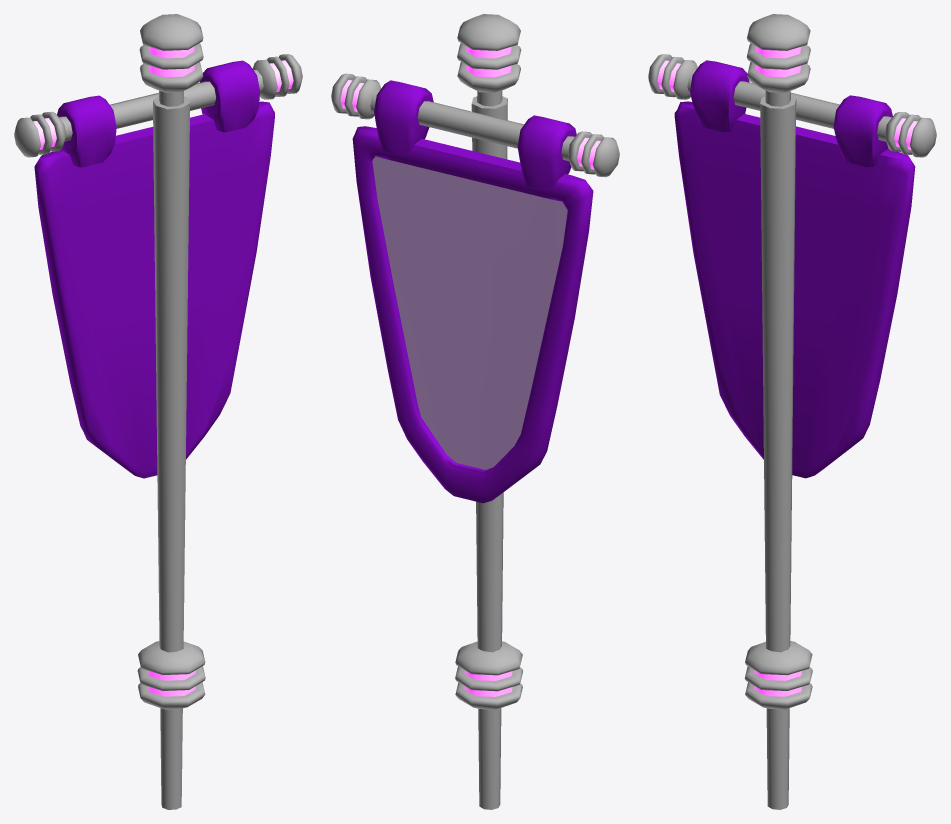
File: PH_Flag_Animations.fbx
The picture shows the model from 3 angles, left to right: view 1: azimuth 30°, elevation 25°; view 2: azimuth 150°, elevation 25°; view 3: azimuth 330°, elevation 25°; orthographic projection.
Visible parts, largest first — view 1: mesh_Flag_Team_A; view 2: mesh_Flag_Team_A; view 3: mesh_Flag_Team_A.
Part boxes in pixels (x1,y1,x2,y2): mesh_Flag_Team_A: (14, 14, 302, 809); mesh_Flag_Team_A: (331, 14, 619, 809); mesh_Flag_Team_A: (648, 14, 936, 809).
Bounding box in the file's own units: 1.81 × 4.87 × 0.4925.
